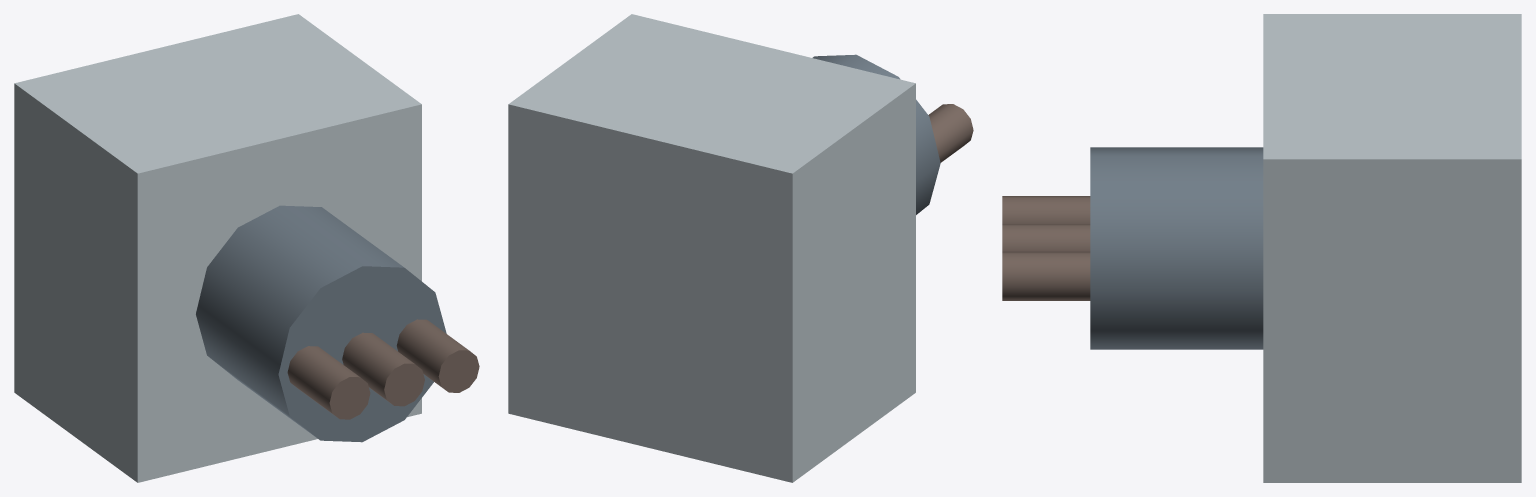
File: curiosity_turret.drt.glb
3 renders of one model, left to right at view 1: azimuth 30°, elevation 25°; view 2: azimuth 150°, elevation 25°; view 3: azimuth 270°, elevation 25°, orthographic. The views are drawn at different scales.
Visible parts, largest first — view 1: curiosity_turret.drt.mesh_Satin_aluminum, curiosity_turret.drt.mesh_Machined_steel, curiosity_turret.drt.mesh_Heat-stained_alloy; view 2: curiosity_turret.drt.mesh_Satin_aluminum, curiosity_turret.drt.mesh_Machined_steel, curiosity_turret.drt.mesh_Heat-stained_alloy; view 3: curiosity_turret.drt.mesh_Satin_aluminum, curiosity_turret.drt.mesh_Machined_steel, curiosity_turret.drt.mesh_Heat-stained_alloy.
Boxes of the visible parts, box(x1,y1,x2,y2) form: curiosity_turret.drt.mesh_Satin_aluminum: box(14, 14, 421, 482); curiosity_turret.drt.mesh_Machined_steel: box(196, 205, 446, 442); curiosity_turret.drt.mesh_Heat-stained_alloy: box(287, 319, 479, 419); curiosity_turret.drt.mesh_Satin_aluminum: box(508, 14, 915, 482); curiosity_turret.drt.mesh_Machined_steel: box(812, 54, 940, 214); curiosity_turret.drt.mesh_Heat-stained_alloy: box(928, 104, 973, 162); curiosity_turret.drt.mesh_Satin_aluminum: box(1263, 14, 1521, 482); curiosity_turret.drt.mesh_Machined_steel: box(1090, 147, 1263, 349); curiosity_turret.drt.mesh_Heat-stained_alloy: box(1002, 196, 1090, 300).
Bounding box in the file's own units: 0.125 × 0.13 × 0.189.
